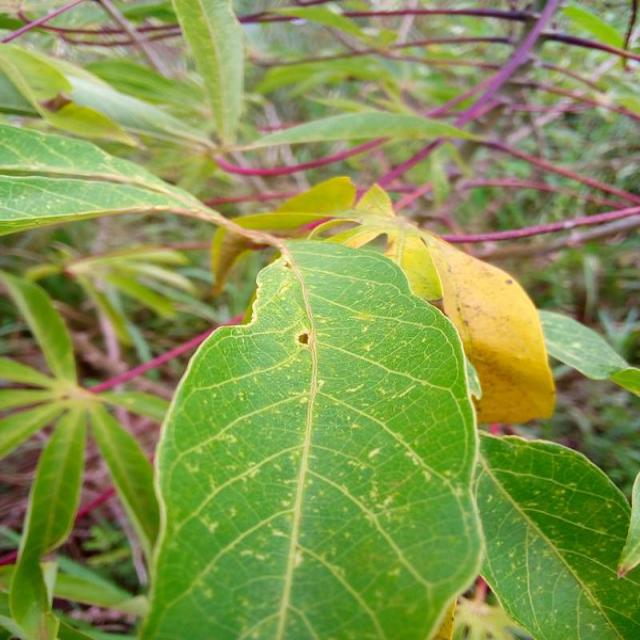cassava leaf: (138, 237, 486, 638), (472, 428, 638, 638)
